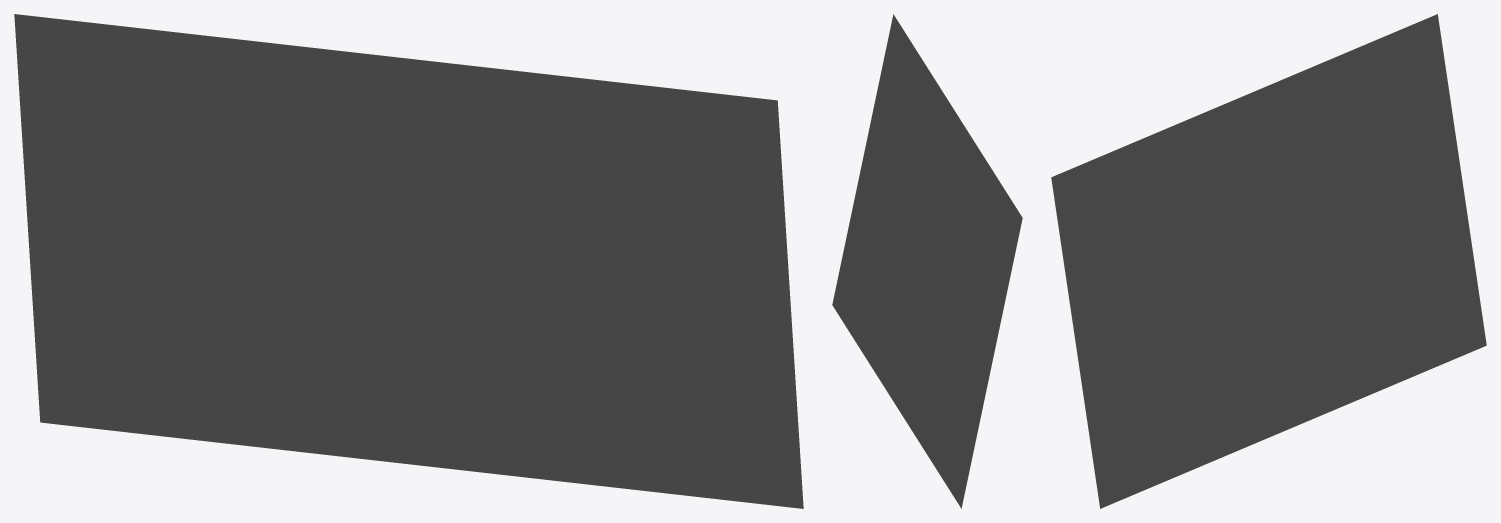
Rendered from secondary_203.glb.
3 renders of one model, left to right at view 1: azimuth 30°, elevation 25°; view 2: azimuth 150°, elevation 25°; view 3: azimuth 270°, elevation 25°, orthographic. The views are drawn at different scales.
Visible parts, largest first — view 1: Object; view 2: Object; view 3: Object.
Boxes of the visible parts, bbox=[...] form: Object: bbox=[14, 14, 803, 508]; Object: bbox=[832, 14, 1022, 508]; Object: bbox=[1051, 14, 1486, 508].
Bounding box in the file's own units: 3.37 × 2.66 × 3.37.
Materials: 1 (1 with a texture image).
